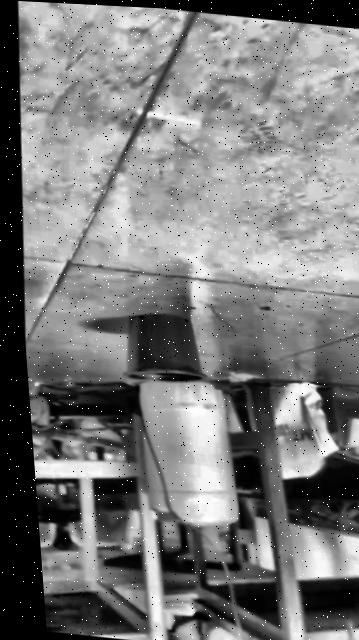pot: (120, 309, 209, 386)
